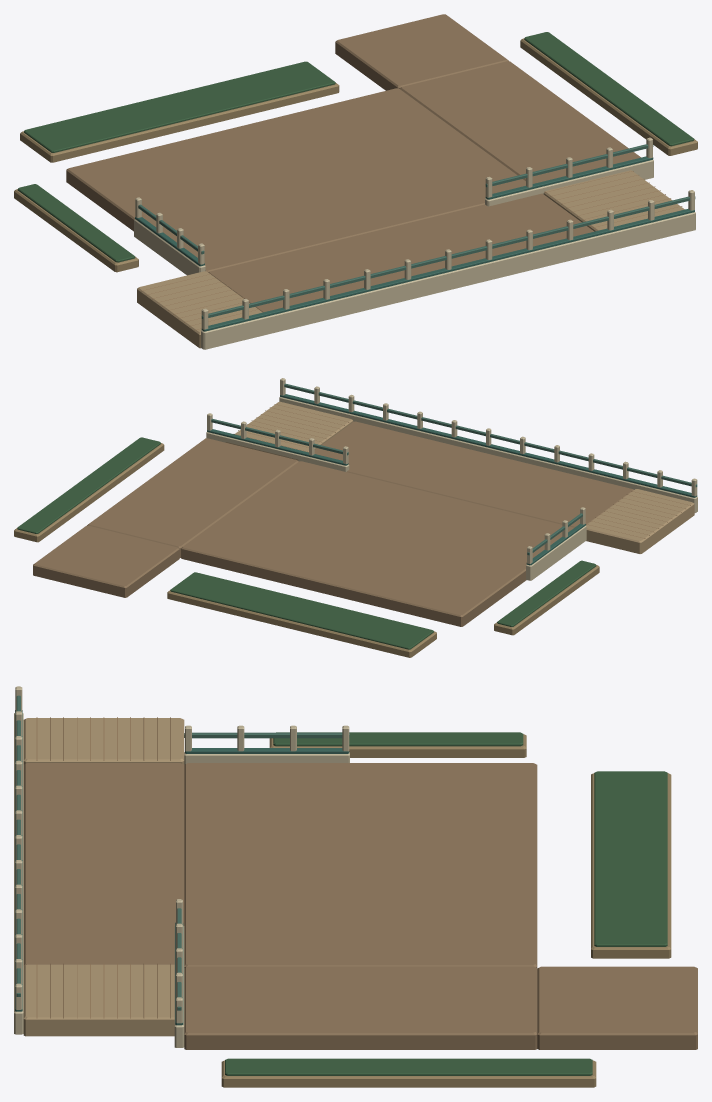
Rendered from site-boundaries.glb.
The picture shows the model from 3 angles, top to bottom: view 1: azimuth 30°, elevation 25°; view 2: azimuth 150°, elevation 25°; view 3: azimuth 270°, elevation 25°; orthographic projection. The views are drawn at different scales.
Parts seen in each view (by area): view 1: site-boundaries; view 2: site-boundaries; view 3: site-boundaries.
Boxes of the visible parts, x1,y1,x2,y2 form: site-boundaries: (14, 14, 697, 349); site-boundaries: (14, 378, 697, 657); site-boundaries: (14, 686, 697, 1087).
Bounding box in the file's own units: 15.6 × 1.03 × 12.78.
